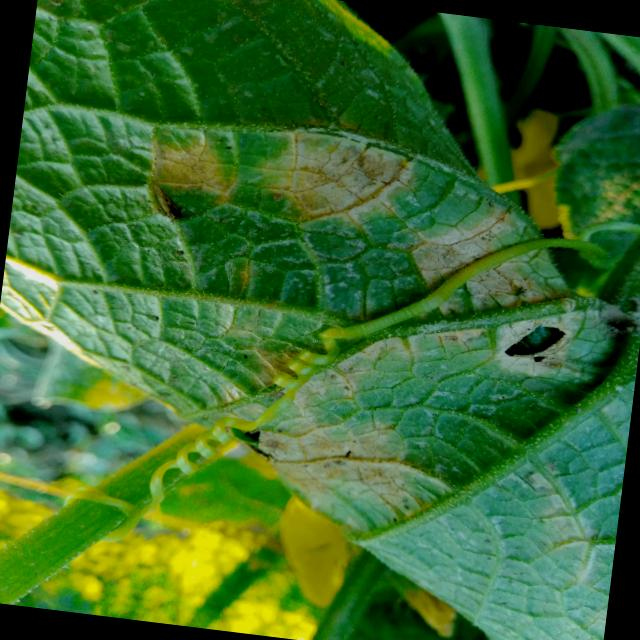cucumber_downy: (142, 63, 632, 558)
